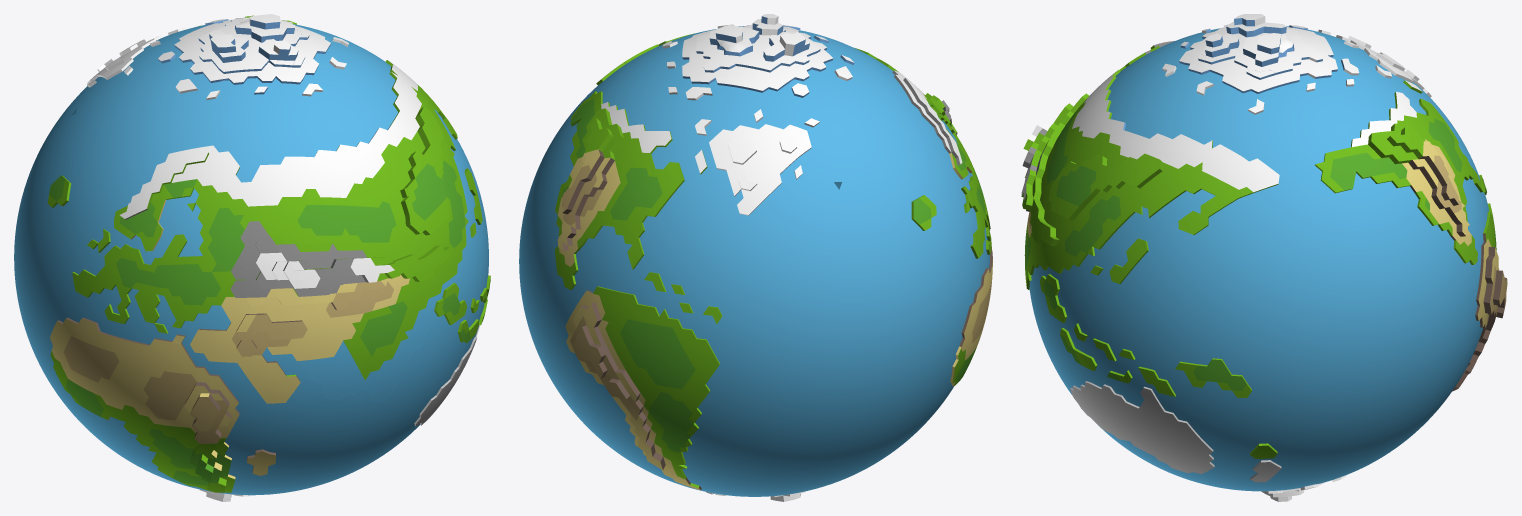
The model's file is Planet_Alpha.fbx.
3 renders of one model, left to right at view 1: azimuth 30°, elevation 25°; view 2: azimuth 150°, elevation 25°; view 3: azimuth 270°, elevation 25°, orthographic.
Visible parts, largest first — view 1: pPlatonic2, pPlatonic1; view 2: pPlatonic2; view 3: pPlatonic2, pPlatonic1.
Part boxes in pixels (<box>): pPlatonic2: <box>14,14,490,501</box>; pPlatonic1: <box>414,325,479,426</box>; pPlatonic2: <box>519,14,992,501</box>; pPlatonic2: <box>1021,14,1507,501</box>; pPlatonic1: <box>1070,381,1281,482</box>.
Size of the model in its own units: 1043 by 1117 by 1080.
